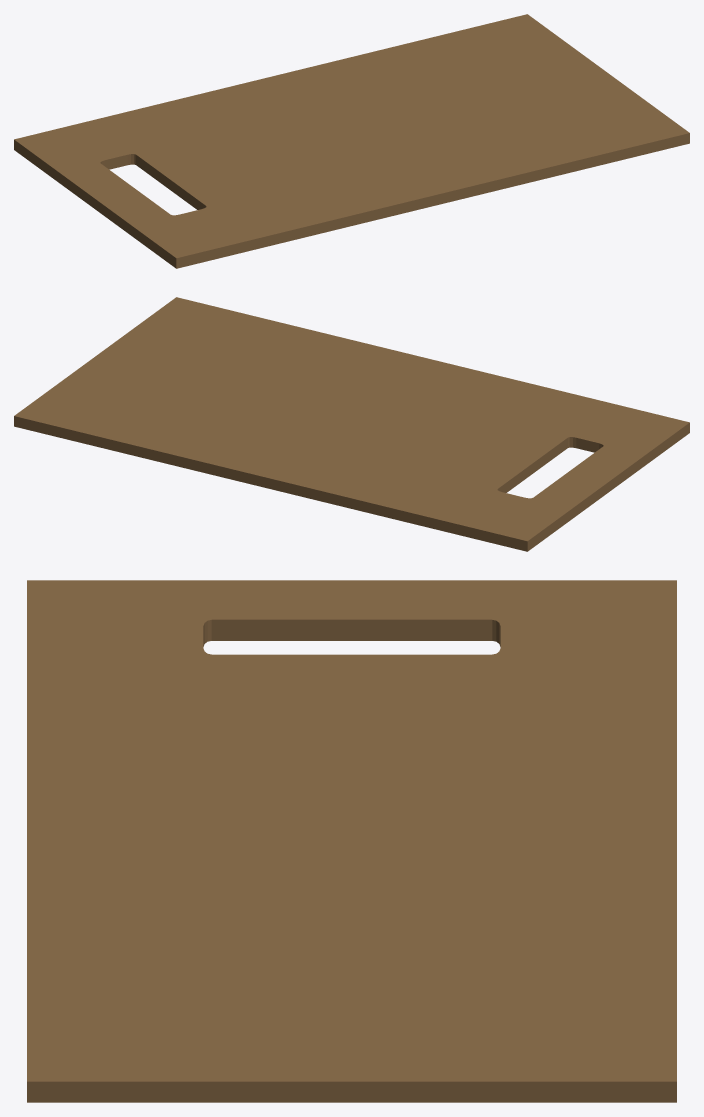
File: Cutting_board.fbx
3 views of the same model, one above another, from view 1: azimuth 30°, elevation 25°; view 2: azimuth 150°, elevation 25°; view 3: azimuth 270°, elevation 25° (orthographic). The views are drawn at different scales.
Parts seen in each view (by area): view 1: Cutting board; view 2: Cutting board; view 3: Cutting board.
Part boxes in pixels (x1,y1,x2,y2): Cutting board: (14,14,689,268); Cutting board: (14,297,689,551); Cutting board: (27,580,676,1102).
Size of the model in its own units: 1340 by 26.27 by 734.
